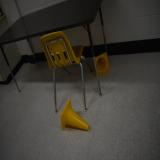cone: (60, 97, 90, 132), (95, 52, 110, 76)
